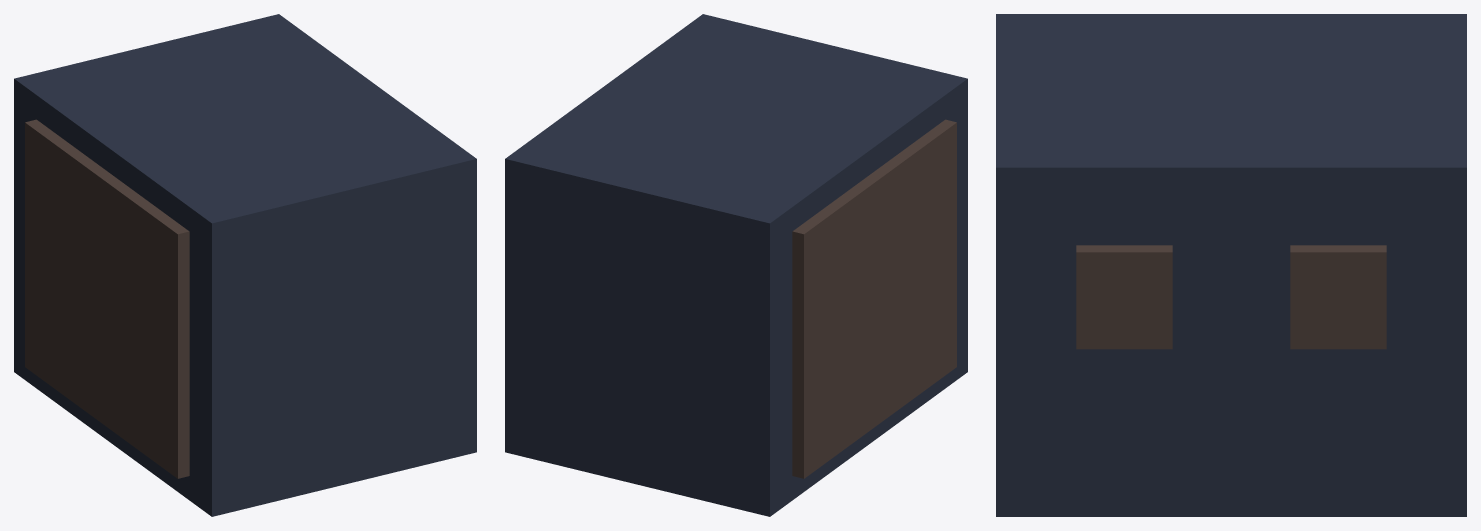
The model's file is SM_Vest_Tactical.fbx.
3 views of the same model, side by side, from view 1: azimuth 30°, elevation 25°; view 2: azimuth 150°, elevation 25°; view 3: azimuth 270°, elevation 25° (orthographic). The views are drawn at different scales.
Parts seen in each view (by area): view 1: SM_Vest_Tactical; view 2: SM_Vest_Tactical; view 3: SM_Vest_Tactical.
Boxes of the visible parts, box(x1,y1,x2,y2) form: SM_Vest_Tactical: box(14, 14, 476, 516); SM_Vest_Tactical: box(505, 14, 967, 516); SM_Vest_Tactical: box(996, 14, 1466, 516).
Size of the model in its own units: 37 by 44 by 36.
